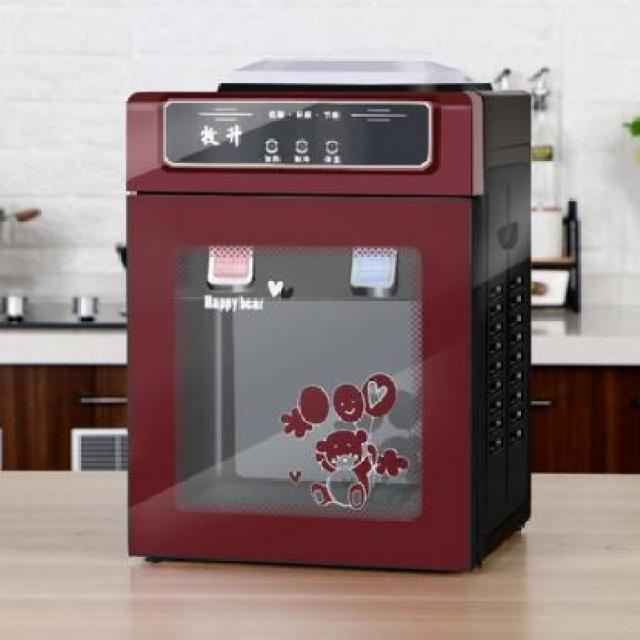cooler: (123, 52, 535, 577)
